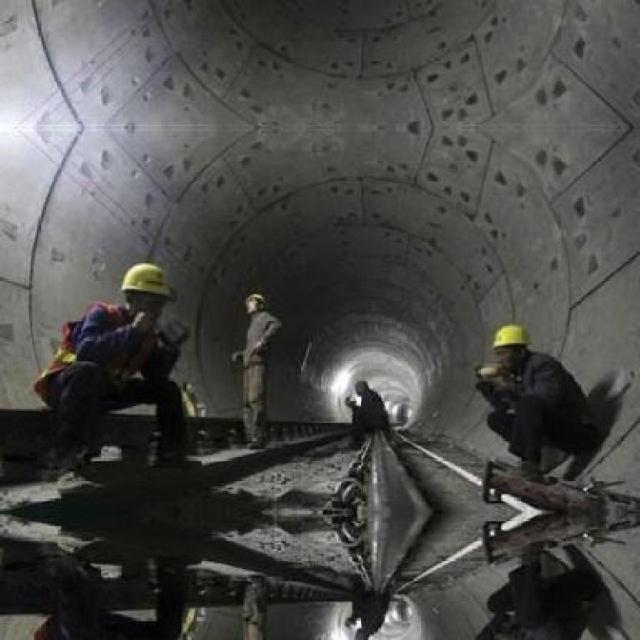helmet: (116, 260, 182, 302), (484, 324, 530, 350), (240, 291, 274, 306)
